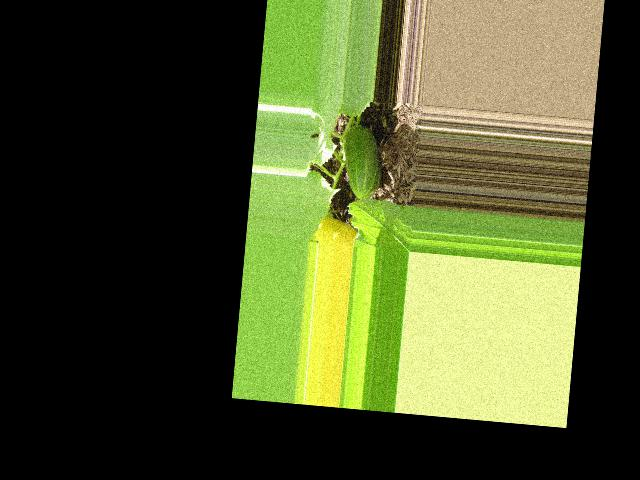cucumber: (339, 123, 386, 200)
